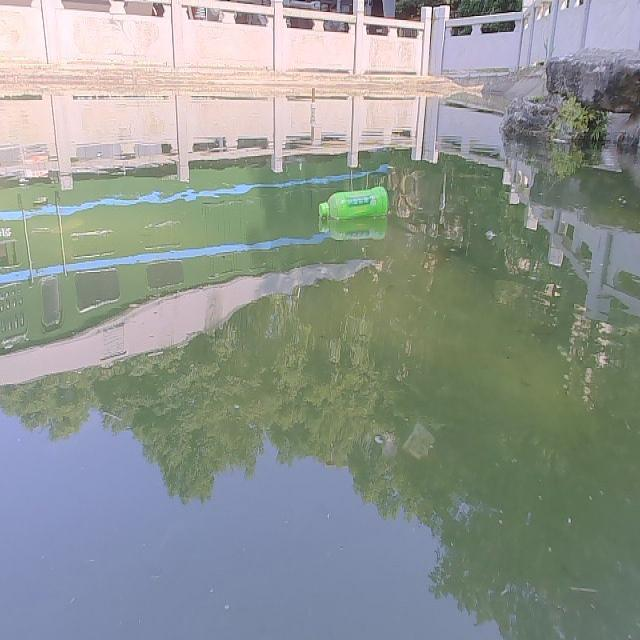bottle: (316, 183, 393, 221)
